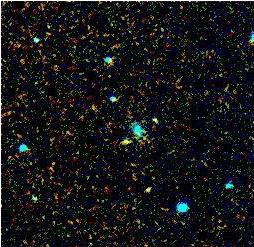star: (110, 127, 140, 157)
